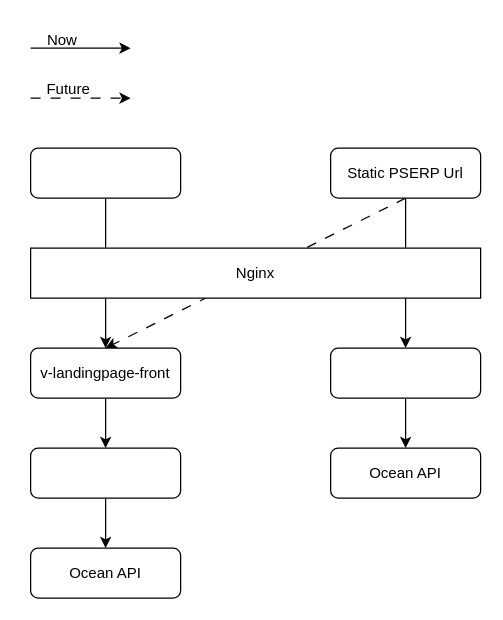
Image size: 503x620. Some labels were removed from this diagram. Here are the shapes that lost their labels. From the top down, the centre of each, then its label:
At [105,172]: "Showroom Url".
At [405,372]: "search-front".
At [105,472]: "traffic-mesh-backend".
